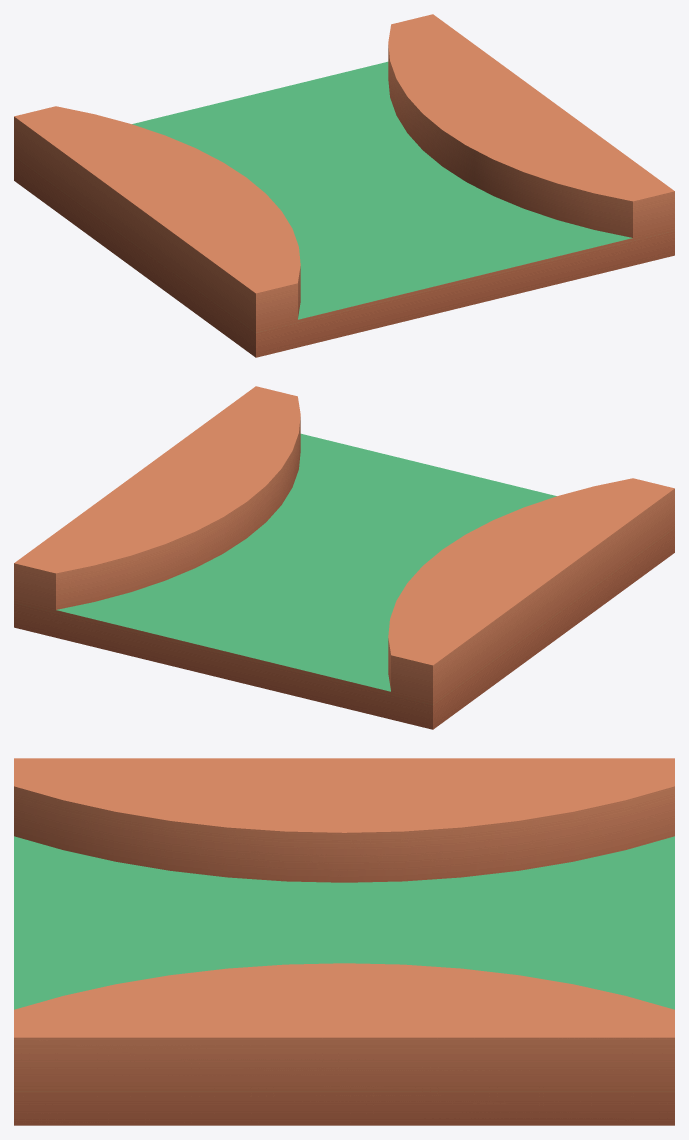
File: narrow-round.glb
The picture shows the model from 3 angles, top to bottom: view 1: azimuth 30°, elevation 25°; view 2: azimuth 150°, elevation 25°; view 3: azimuth 270°, elevation 25°; orthographic projection. The views are drawn at different scales.
Parts seen in each view (by area): view 1: narrow-round; view 2: narrow-round; view 3: narrow-round.
Part boxes in pixels (x1=…): narrow-round: x1=14, y1=14, x2=674, y2=357; narrow-round: x1=14, y1=386, x2=674, y2=729; narrow-round: x1=14, y1=758, x2=674, y2=1125.
Bounding box in the file's own units: 0.9999 × 0.1467 × 0.9999.
Materials: 1 (1 with a texture image).
